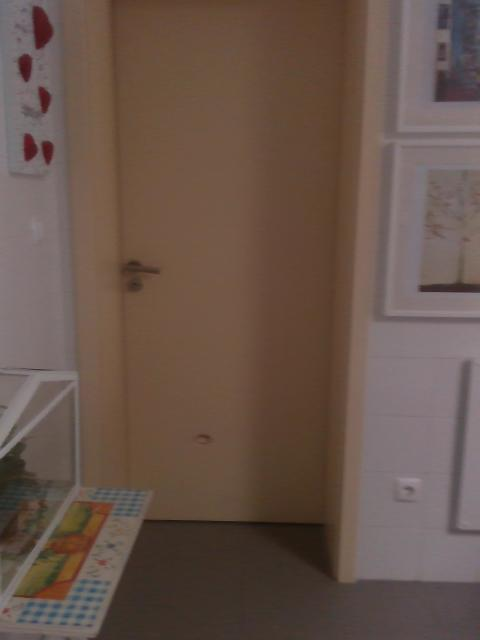door: (109, 1, 346, 520)
